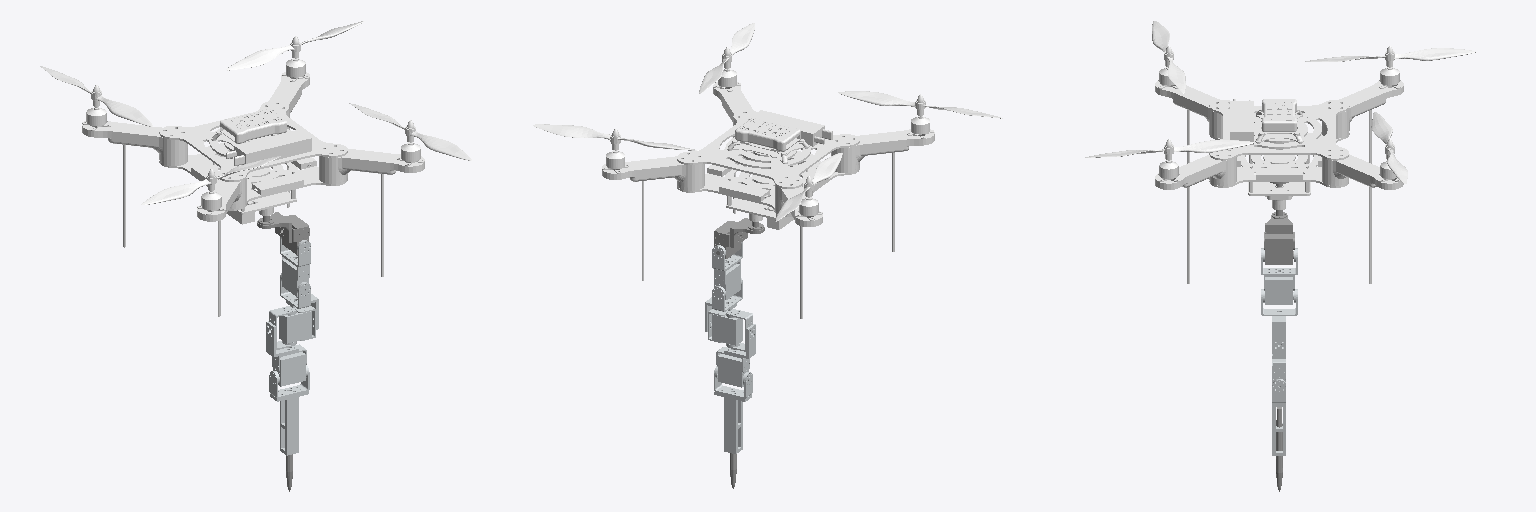
The robot description file, URDF, robot "hyper_robot4":
<?xml version="1.0" encoding="utf-8"?>
<!-- This URDF was automatically created by SolidWorks to URDF Exporter! Originally created by [author] ([email redacted]) 
     Commit Version: 1.6.0-4-g7f85cfe  Build Version: 1.6.7995.38578
     For more information, please see http://wiki.ros.org/sw_urdf_exporter -->
<robot
  name="hyper_robot4">
  <link
    name="base_link">
    <inertial>
      <origin
        xyz="-0.00080332 -0.0073137 -0.027846"
        rpy="0 0 0" />
      <mass
        value="1.4037" />
      <inertia
        ixx="0.0017764"
        ixy="-3.447E-06"
        ixz="2.1856E-07"
        iyy="0.0019607"
        iyz="2.7013E-07"
        izz="0.0032525" />
    </inertial>
    <visual>
      <origin
        xyz="0 0 0"
        rpy="0 0 0" />
      <geometry>
        <mesh
          filename="package://hyper_robot4/meshes/base_link.STL" />
      </geometry>
      <material
        name="">
        <color
          rgba="1 1 1 1" />
      </material>
    </visual>
    <collision>
      <origin
        xyz="0 0 0"
        rpy="0 0 0" />
      <geometry>
        <mesh
          filename="package://hyper_robot4/meshes/base_link.STL" />
      </geometry>
    </collision>
  </link>
  <link
    name="Link1">
    <inertial>
      <origin
        xyz="0.03091 3.5089E-05 0.029993"
        rpy="0 0 0" />
      <mass
        value="0.11138" />
      <inertia
        ixx="2.6005E-05"
        ixy="-2.14E-13"
        ixz="2.8039E-07"
        iyy="1.7177E-05"
        iyz="3.7239E-08"
        izz="1.71E-05" />
    </inertial>
    <visual>
      <origin
        xyz="0 0 0"
        rpy="0 0 0" />
      <geometry>
        <mesh
          filename="package://hyper_robot4/meshes/Link1.STL" />
      </geometry>
      <material
        name="">
        <color
          rgba="0.69804 0.69804 0.69804 1" />
      </material>
    </visual>
    <collision>
      <origin
        xyz="0 0 0"
        rpy="0 0 0" />
      <geometry>
        <mesh
          filename="package://hyper_robot4/meshes/Link1.STL" />
      </geometry>
    </collision>
  </link>
  <joint
    name="Joint0"
    type="revolute">
    <origin
      xyz="0.0200000000000003 0 -0.18065"
      rpy="0 0 0" />
    <parent
      link="base_link" />
    <child
      link="Link1" />
    <axis
      xyz="0 0 1" />
    <limit
      lower="-1.5707"
      upper="1.5707"
      effort="1"
      velocity="1" />
  </joint>
  <link
    name="Link2">
    <inertial>
      <origin
        xyz="0.044669 -3.9552E-15 -7.8627E-06"
        rpy="0 0 0" />
      <mass
        value="0.089477" />
      <inertia
        ixx="1.9359E-05"
        ixy="3.3333E-19"
        ixz="3.7239E-08"
        iyy="2.6927E-05"
        iyz="3.7967E-21"
        izz="1.3371E-05" />
    </inertial>
    <visual>
      <origin
        xyz="0 0 0"
        rpy="0 0 0" />
      <geometry>
        <mesh
          filename="package://hyper_robot4/meshes/Link2.STL" />
      </geometry>
      <material
        name="">
        <color
          rgba="0.89804 0.91765 0.92941 1" />
      </material>
    </visual>
    <collision>
      <origin
        xyz="0 0 0"
        rpy="0 0 0" />
      <geometry>
        <mesh
          filename="package://hyper_robot4/meshes/Link2.STL" />
      </geometry>
    </collision>
  </link>
  <joint
    name="Joint1"
    type="revolute">
    <origin
      xyz="0.0465 0 0"
      rpy="1.5707963267949 1.5707963267949 0" />
    <parent
      link="Link1" />
    <child
      link="Link2" />
    <axis
      xyz="0 0 1" />
    <limit
      lower="-1.5707"
      upper="1.5707"
      effort="1"
      velocity="1" />
  </joint>
  <link
    name="Link3">
    <inertial>
      <origin
        xyz="-0.0027639 0.053128 3.399E-05"
        rpy="0 0 0" />
      <mass
        value="0.09428" />
      <inertia
        ixx="2.1264E-05"
        ixy="4.9299E-07"
        ixz="3.2007E-18"
        iyy="1.7761E-05"
        iyz="-5.2408E-19"
        izz="2.4231E-05" />
    </inertial>
    <visual>
      <origin
        xyz="0 0 0"
        rpy="0 0 0" />
      <geometry>
        <mesh
          filename="package://hyper_robot4/meshes/Link3.STL" />
      </geometry>
      <material
        name="">
        <color
          rgba="0.89804 0.91765 0.92941 1" />
      </material>
    </visual>
    <collision>
      <origin
        xyz="0 0 0"
        rpy="0 0 0" />
      <geometry>
        <mesh
          filename="package://hyper_robot4/meshes/Link3.STL" />
      </geometry>
    </collision>
  </link>
  <joint
    name="Joint2"
    type="revolute">
    <origin
      xyz="0.0636500000000007 0 0"
      rpy="0 0 -1.5707963267949" />
    <parent
      link="Link2" />
    <child
      link="Link3" />
    <axis
      xyz="0 0 -1" />
    <limit
      lower="-1.5707"
      upper="1.5707"
      effort="1"
      velocity="1" />
  </joint>
  <link
    name="Link4">
    <inertial>
      <origin
        xyz="2.867E-14 0.0031256 -0.024086"
        rpy="0 0 0" />
      <mass
        value="0.09428" />
      <inertia
        ixx="2.8558E-05"
        ixy="-5.4321E-20"
        ixz="1.1994E-18"
        iyy="1.7996E-05"
        iyz="4.1851E-07"
        izz="1.6701E-05" />
    </inertial>
    <visual>
      <origin
        xyz="0 0 0"
        rpy="0 0 0" />
      <geometry>
        <mesh
          filename="package://hyper_robot4/meshes/Link4.STL" />
      </geometry>
      <material
        name="">
        <color
          rgba="0.89804 0.91765 0.92941 1" />
      </material>
    </visual>
    <collision>
      <origin
        xyz="0 0 0"
        rpy="0 0 0" />
      <geometry>
        <mesh
          filename="package://hyper_robot4/meshes/Link4.STL" />
      </geometry>
    </collision>
  </link>
  <joint
    name="Joint3"
    type="revolute">
    <origin
      xyz="0.00965 0.13565 0"
      rpy="-1.5708 -1.5708 0" />
    <parent
      link="Link3" />
    <child
      link="Link4" />
    <axis
      xyz="0 0 1" />
    <limit
      lower="-1.5707"
      upper="1.5707"
      effort="1"
      velocity="1" />
  </joint>
  <link
    name="Link5">
    <inertial>
      <origin
        xyz="-9.7548E-14 0.044044 8.1785E-05"
        rpy="0 0 0" />
      <mass
        value="0.039183" />
      <inertia
        ixx="2.725E-05"
        ixy="4.2357E-17"
        ixz="-4.6187E-18"
        iyy="8.1409E-06"
        iyz="3.294E-18"
        izz="2.2451E-05" />
    </inertial>
    <visual>
      <origin
        xyz="0 0 0"
        rpy="0 0 0" />
      <geometry>
        <mesh
          filename="package://hyper_robot4/meshes/Link5.STL" />
      </geometry>
      <material
        name="">
        <color
          rgba="0.89804 0.91765 0.92941 1" />
      </material>
    </visual>
    <collision>
      <origin
        xyz="0 0 0"
        rpy="0 0 0" />
      <geometry>
        <mesh
          filename="package://hyper_robot4/meshes/Link5.STL" />
      </geometry>
    </collision>
  </link>
  <joint
    name="Joint4"
    type="revolute">
    <origin
      xyz="0 0 0"
      rpy="1.5708 0 0" />
    <parent
      link="Link4" />
    <child
      link="Link5" />
    <axis
      xyz="0 0 1" />
    <limit
      lower="-1.5707"
      upper="1.5707"
      effort="1"
      velocity="1" />
  </joint>
  <link
    name="Link6">
    <inertial>
      <origin
        xyz="-2.6202E-08 -2.259E-08 -0.067545"
        rpy="0 0 0" />
      <mass
        value="0.0096839" />
      <inertia
        ixx="1.0979E-05"
        ixy="-1.7005E-13"
        ixz="1.5693E-11"
        iyy="1.0979E-05"
        iyz="1.3536E-11"
        izz="1.0733E-07" />
    </inertial>
    <visual>
      <origin
        xyz="0 0 0"
        rpy="0 0 0" />
      <geometry>
        <mesh
          filename="package://hyper_robot4/meshes/Link6.STL" />
      </geometry>
      <material
        name="">
        <color
          rgba="0.69804 0.69804 0.69804 1" />
      </material>
    </visual>
    <collision>
      <origin
        xyz="0 0 0"
        rpy="0 0 0" />
      <geometry>
        <mesh
          filename="package://hyper_robot4/meshes/Link6.STL" />
      </geometry>
    </collision>
  </link>
  <joint
    name="Joint5"
    type="revolute">
    <origin
      xyz="0 0.177384929880473 0"
      rpy="-1.57079632679532 0 0" />
    <parent
      link="Link5" />
    <child
      link="Link6" />
    <axis
      xyz="0 0 1" />
    <limit
      lower="-1.5707"
      upper="1.5707"
      effort="1"
      velocity="1" />
  </joint>
  <link name="freedom_roll" />
  <joint
    name="JointPenRoll"
    type="revolute">
    <parent
      link="Link6" />
    <child
      link="freedom_roll"/>
    <axis
      xyz="1 0 0"/>
    <limit
      lower="-0.7854"
      upper="0.7854"
      effort="1"
      velocity="1" />
  </joint>
  <link name="free_endeffector" />
  <joint
    name="JointPenPitch"
    type="revolute">
    <parent
      link="freedom_roll" />
    <child
      link="free_endeffector"/>
    <axis
      xyz="0 1 0"/>
    <limit
      lower="-0.7854"
      upper="0.7854"
      effort="1"
      velocity="1" />
  </joint>
</robot>

--- Facts derived from the render (not from the file) ---
Views: 3 orthographic renders of the robot side by side, from view 1: azimuth 30°, elevation 25°; view 2: azimuth 150°, elevation 25°; view 3: azimuth 270°, elevation 25°.
Robot: hyper_robot4 — 9 links, 8 joints (8 revolute); root link base_link; default pose: every joint at zero.
Links seen in each view (by area): view 1: base_link, Link4, Link3, Link5, Link2, Link1; view 2: base_link, Link4, Link3, Link5, Link2, Link1; view 3: base_link, Link1, Link2, Link3, Link5.
Boxes of the visible links, x1,y1,x2,y2 form: base_link: [40, 21, 471, 316]; Link4: [266, 306, 306, 386]; Link3: [279, 273, 318, 343]; Link5: [269, 365, 309, 455]; Link2: [280, 237, 310, 296]; Link1: [257, 212, 309, 254]; base_link: [533, 23, 1002, 318]; Link4: [716, 309, 755, 387]; Link3: [705, 278, 742, 345]; Link5: [714, 366, 752, 453]; Link2: [712, 242, 742, 299]; Link1: [714, 218, 764, 258]; base_link: [1085, 21, 1475, 283]; Link1: [1264, 182, 1294, 264]; Link2: [1261, 248, 1297, 304]; Link3: [1261, 289, 1297, 356]; Link5: [1272, 379, 1285, 455].
Size in the robot's own frame: 0.5619 by 0.5616 by 0.6023 metres.
7 mesh visuals loaded from 7 distinct referenced files (7 binary STL).